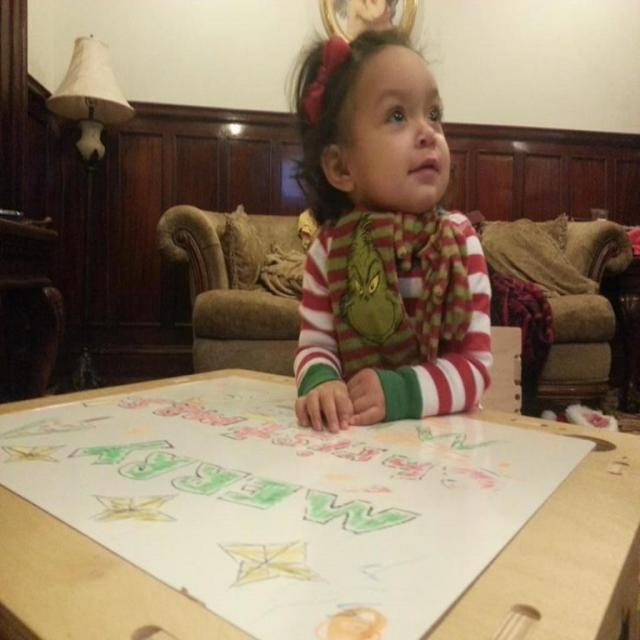desk: (0, 371, 639, 639)
person: (291, 31, 495, 433)
